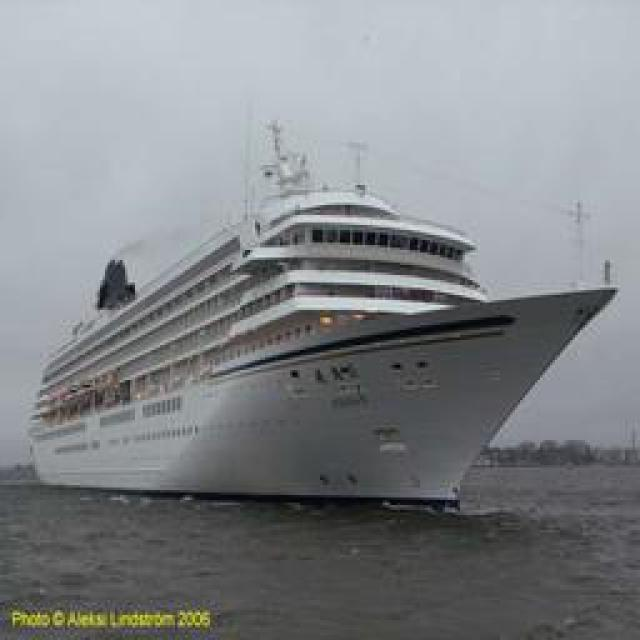Ship: (32, 162, 610, 502)
